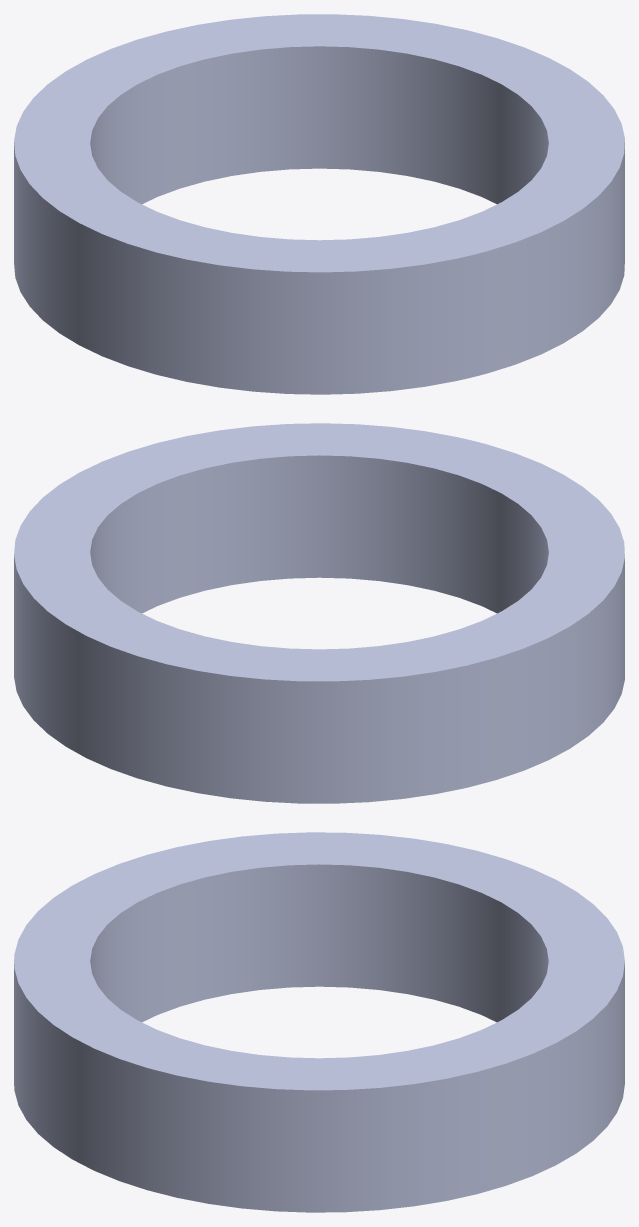
Rendered from UA_26EV_Gearbox__UA_26EV_Steering_Gearbox_Output_Shaft_Spacer_1.dae.
3 views of the same model, one above another, from view 1: azimuth 30°, elevation 25°; view 2: azimuth 150°, elevation 25°; view 3: azimuth 270°, elevation 25° (orthographic).
Parts seen in each view (by area): view 1: node0; view 2: node0; view 3: node0.
Boxes of the visible parts, x1,y1,x2,y2 form: node0: (14,14,624,394); node0: (14,423,624,803); node0: (14,832,624,1212).
Size of the model in its own units: 0.0226 by 0.005 by 0.0227.
